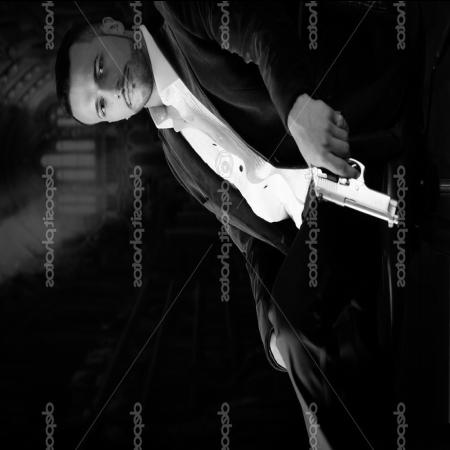Pistol: (304, 98, 402, 238)
